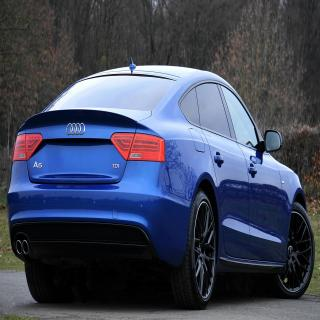Normal_vehicle: (10, 57, 316, 308)
